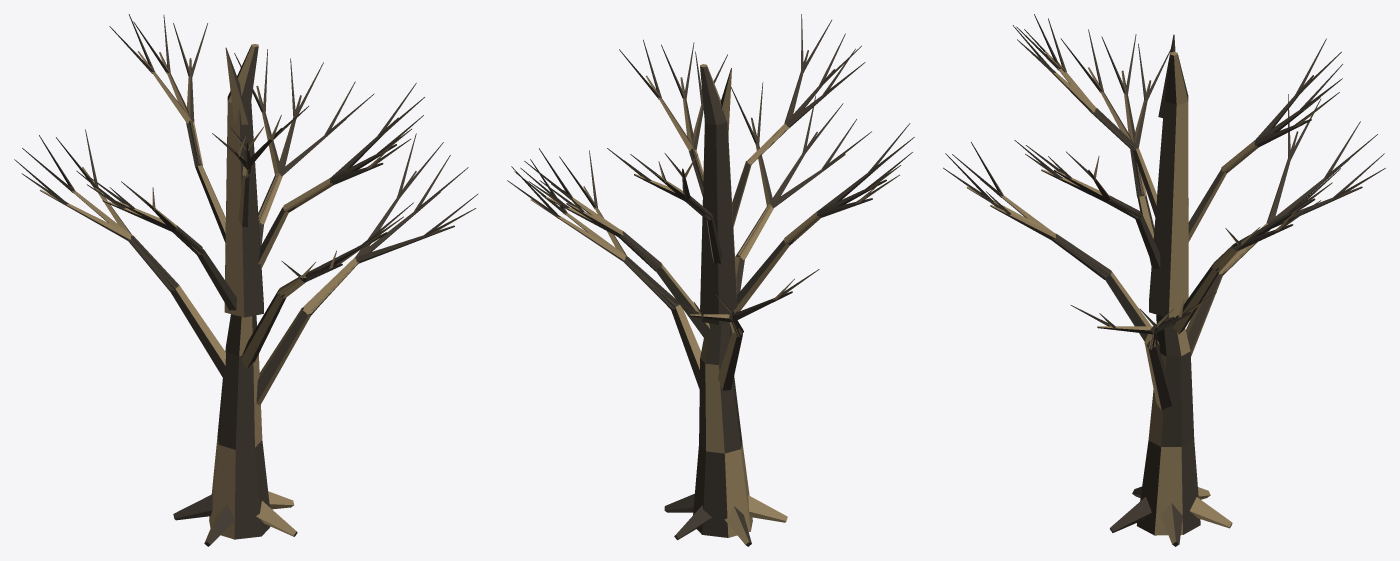
Rendered from tree_dead_lightning.obj.
3 renders of one model, left to right at view 1: azimuth 30°, elevation 25°; view 2: azimuth 150°, elevation 25°; view 3: azimuth 270°, elevation 25°, orthographic. The views are drawn at different scales.
Visible parts, largest first — view 1: tree_dead_lightning; view 2: tree_dead_lightning; view 3: tree_dead_lightning.
Part boxes in pixels (bbox=[...]): tree_dead_lightning: bbox=[14, 14, 478, 546]; tree_dead_lightning: bbox=[507, 14, 914, 546]; tree_dead_lightning: bbox=[943, 14, 1385, 546].
Size of the model in its own units: 569 by 680 by 565.
1 material, 1 textured.
